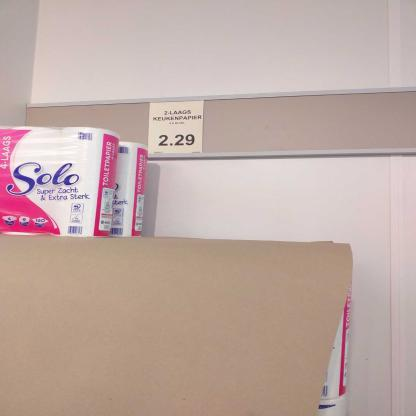prtg: (150, 102, 205, 155)
